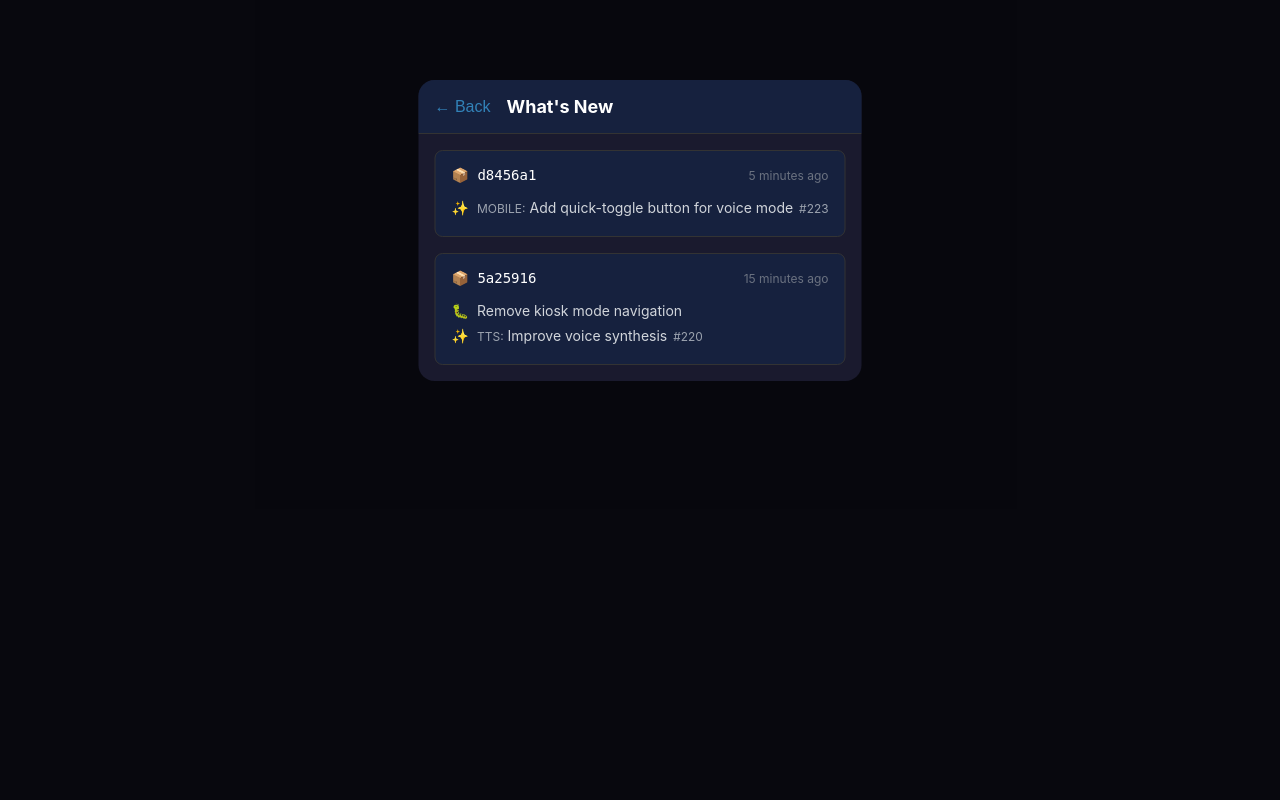
it: ReleaseNotes › timestamp toggling › toggles to absolute time on click
Check: the text "📦 d8456a1" is shown, box [452,167,536,183]
Click the button with class "release-header" showing "📦 d8456a1 5 minutes ago".
click(507, 175)  # box [448,163,832,187]
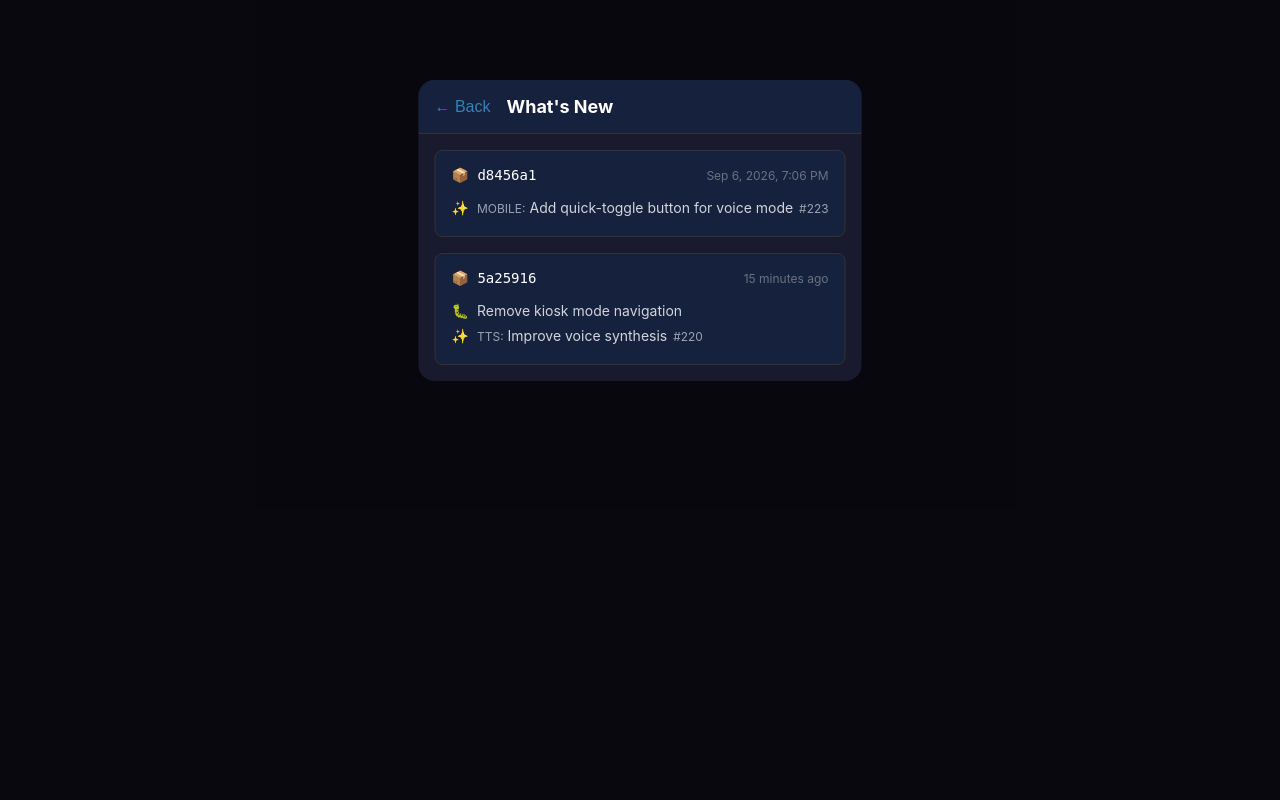
Check: the text with class "release-timestamp" shows "Sep", box [706,168,828,182]
